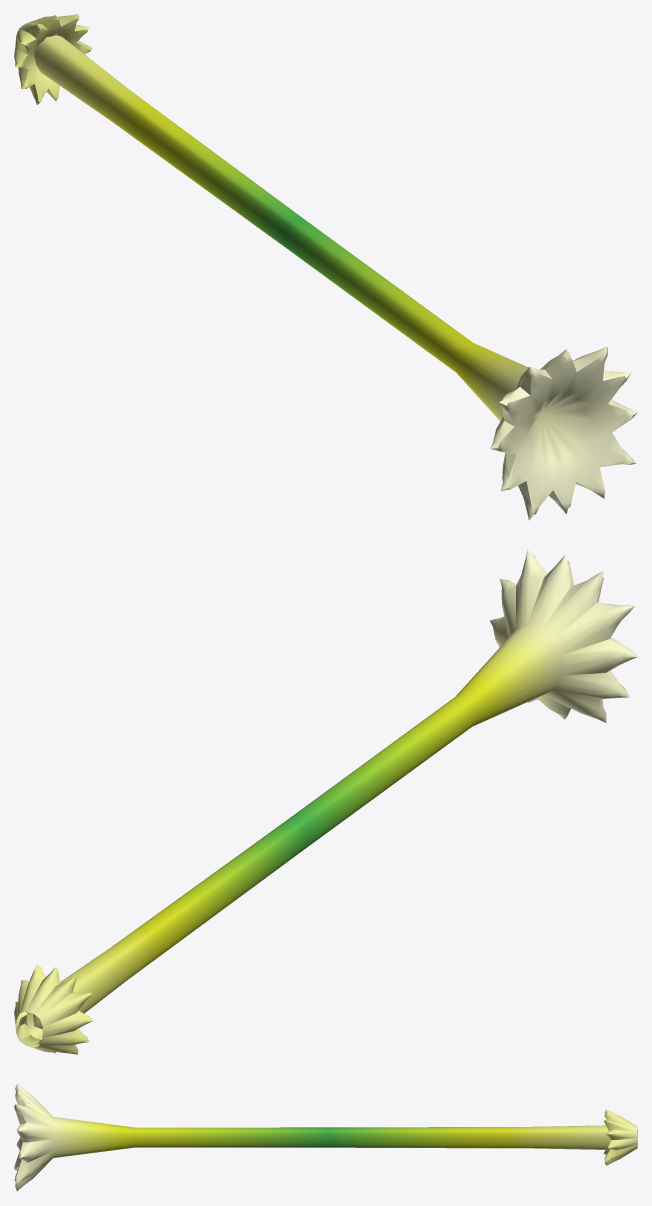
Rendered from Laserbeam.obj.
3 renders of one model, top to bottom at view 1: azimuth 30°, elevation 25°; view 2: azimuth 150°, elevation 25°; view 3: azimuth 270°, elevation 25°, orthographic. The views are drawn at different scales.
Visible parts, largest first — view 1: Laserbeam; view 2: Laserbeam; view 3: Laserbeam.
Part boxes in pixels (x1=…): Laserbeam: x1=14, y1=14, x2=637, y2=520; Laserbeam: x1=14, y1=549, x2=637, y2=1054; Laserbeam: x1=14, y1=1084, x2=637, y2=1191.
Size of the model in its own units: 0.4326 by 0.4618 by 2.73.
1 material, 1 textured.
